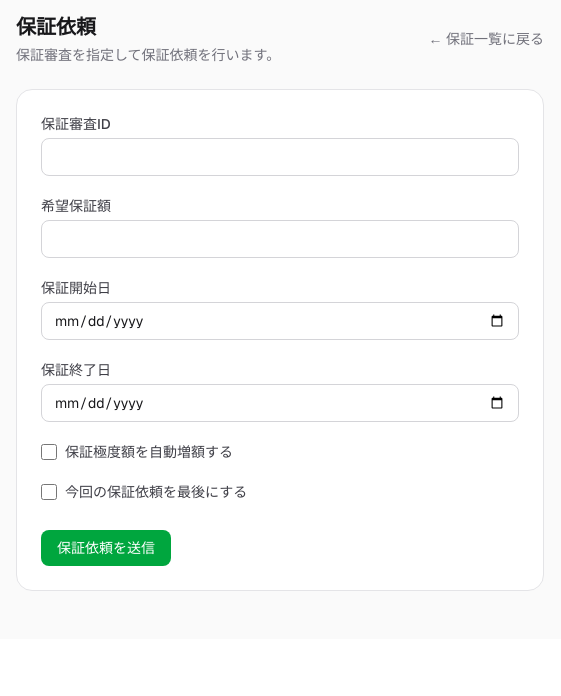
GuaranteeNewPage › 未認証の場合はエラーメッセージを表示しfetchを呼ばない
Step 1. Type "12345" into the number field labelled "保証審査ID" → (280, 157), box [41,138,519,176]
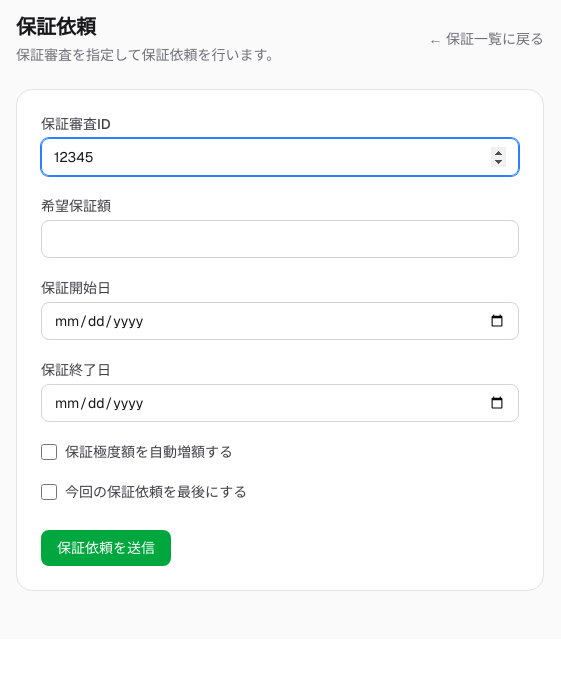
Step 2. Type "1000000" into the number field labelled "希望保証額" → (280, 239), box [41,220,519,258]
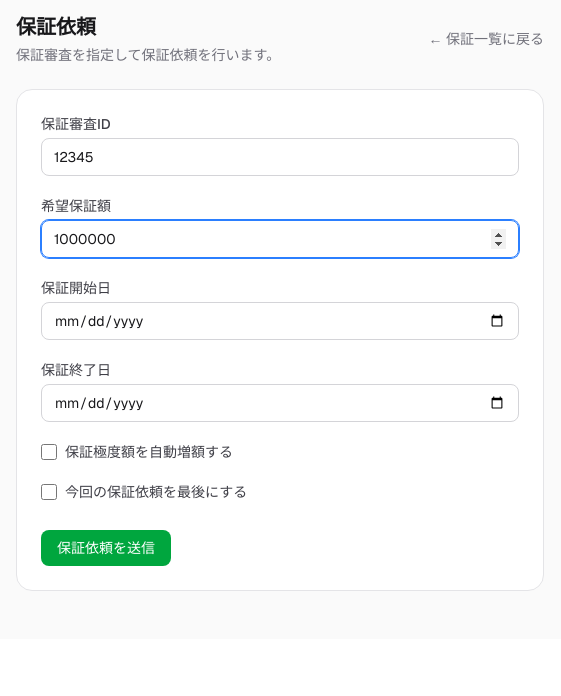
Step 3. Type "2023-03-27" into the date field labelled "保証開始日" → (280, 321), box [41,302,519,340]
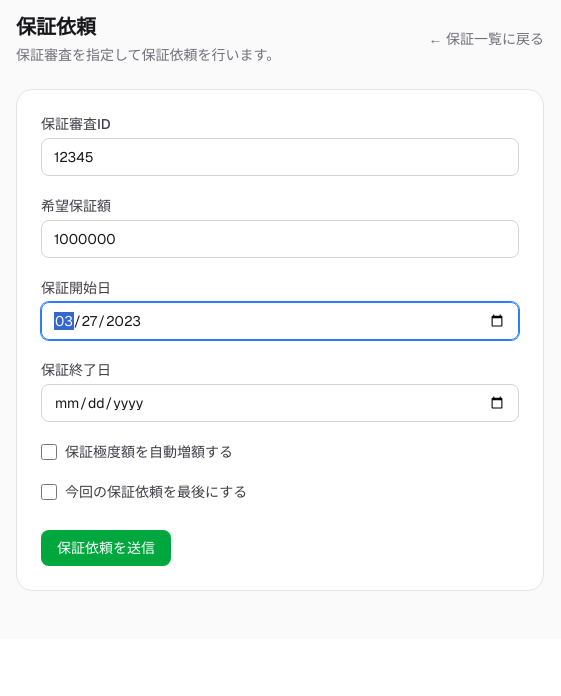
Step 4. Type "2023-04-27" into the date field labelled "保証終了日" → (280, 403), box [41,384,519,422]
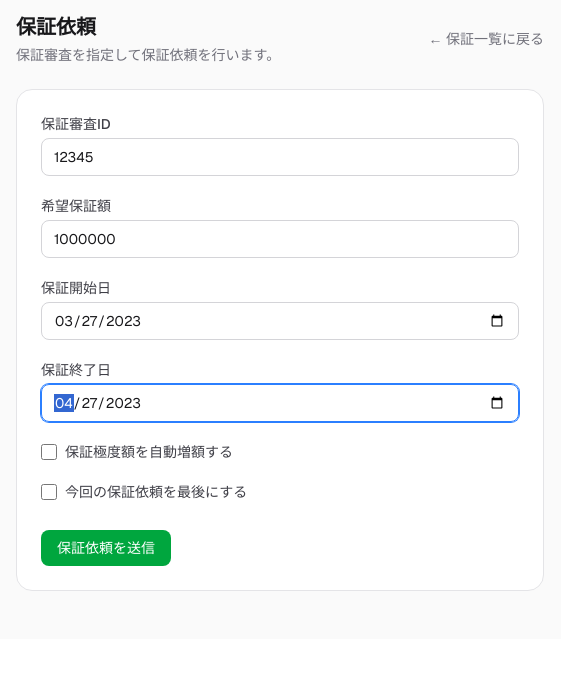
Step 5. Click the button "保証依頼を送信" → (106, 548), box [41,530,171,566]
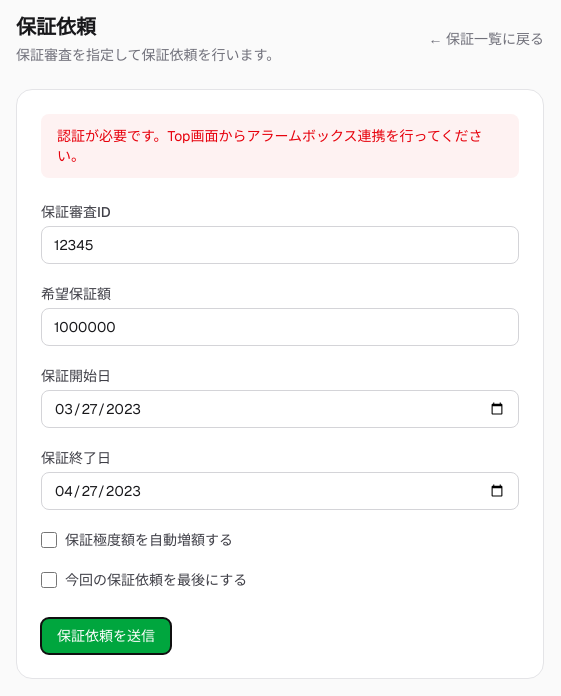
Check: the text "認証が必要です。Top画面からアラームボックス連携を行ってください。" is shown, box [41,114,519,178]
